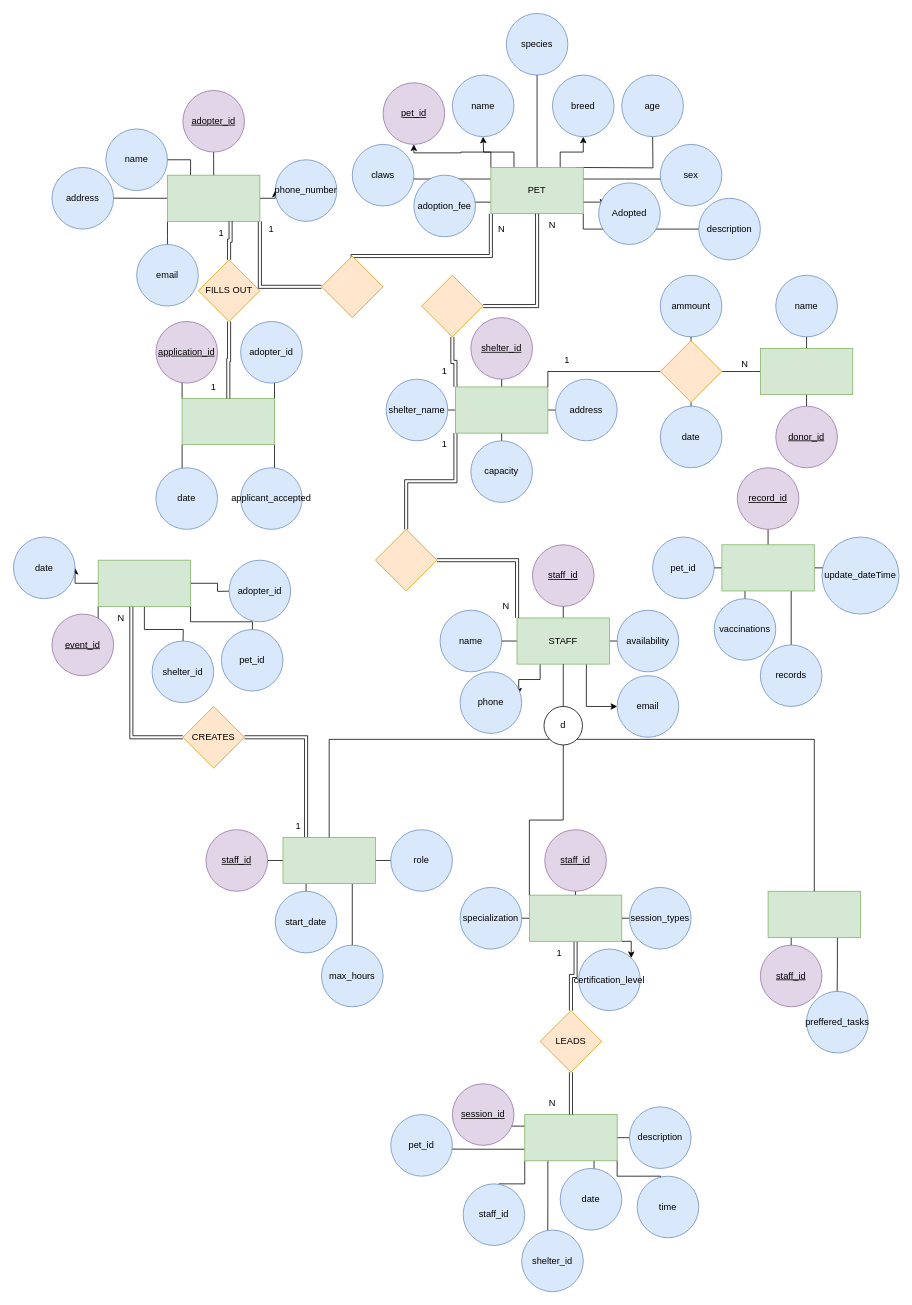
The diagram is 912 pixels wide and 1305 high, and some of its shapes have lost their labels. Here are the shapes that lost their labels. From the top down, the box of each, then its label:
(167, 174, 260, 221): ADOPTER
(321, 255, 383, 318): ADOPTS
(421, 275, 483, 337): HOUSES
(660, 340, 722, 402): DONATES
(760, 348, 853, 395): DONOR
(181, 398, 275, 445): APPLICATION
(455, 386, 548, 433): SHELTER
(375, 529, 437, 591): EMPLOYS
(721, 544, 814, 591): HEALTH_RECORDS
(97, 559, 191, 606): ADDOPTION_EVENT
(282, 837, 375, 884): EMPLOYEE
(529, 894, 622, 941): TRAINER
(767, 891, 860, 937): VOLUNTEER
(524, 1114, 617, 1161): TRAINING
